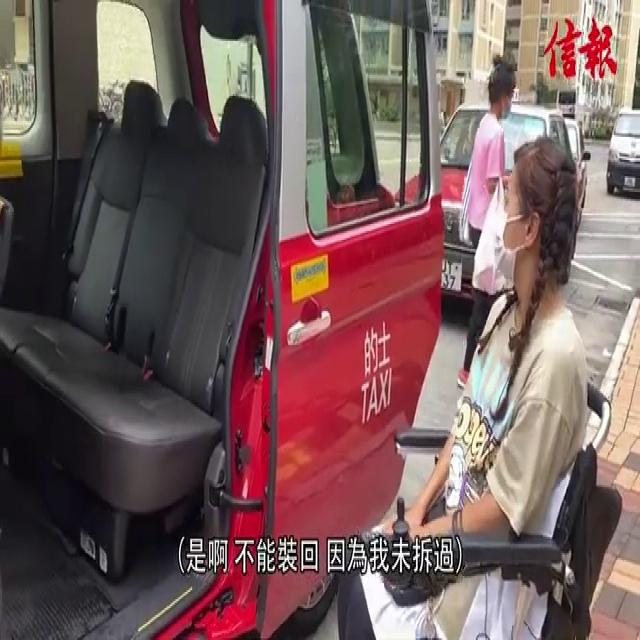wheelchairs: (358, 300, 627, 640)
